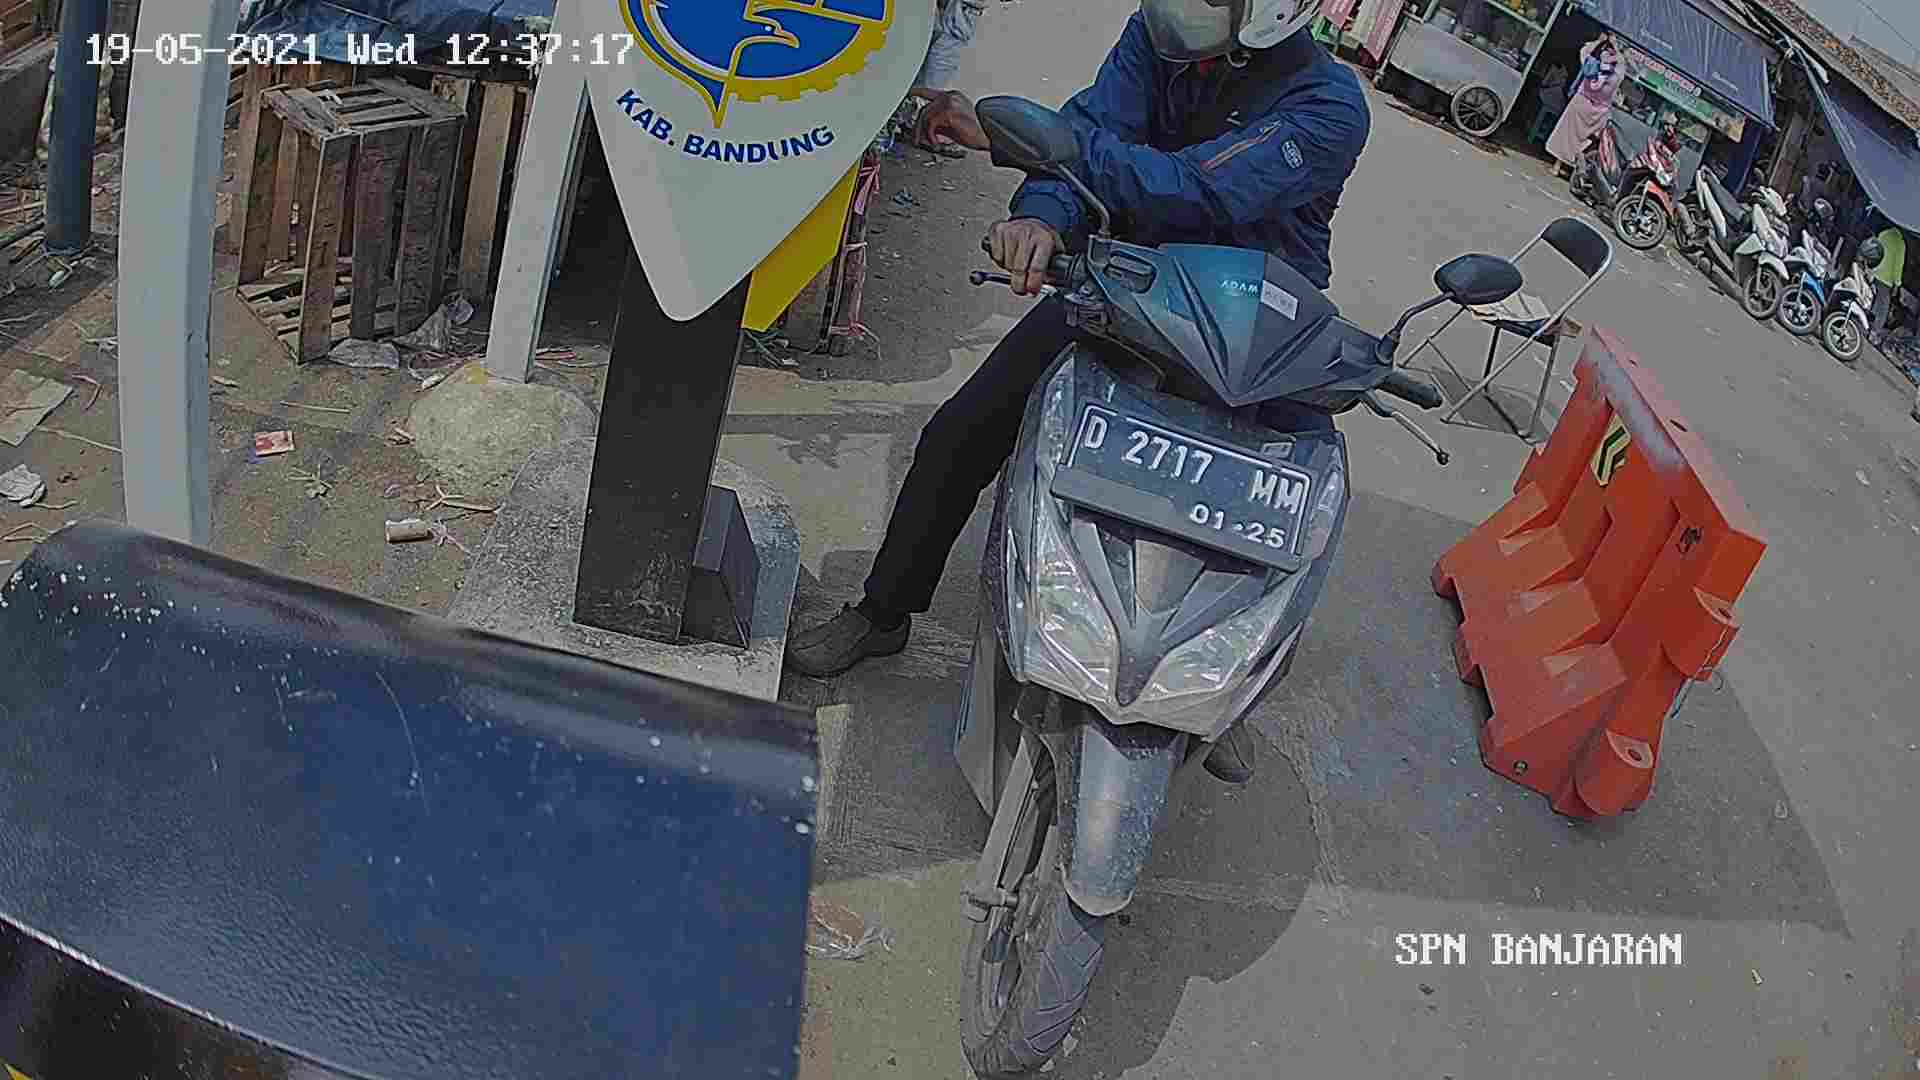motor: (924, 220, 1367, 1080)
